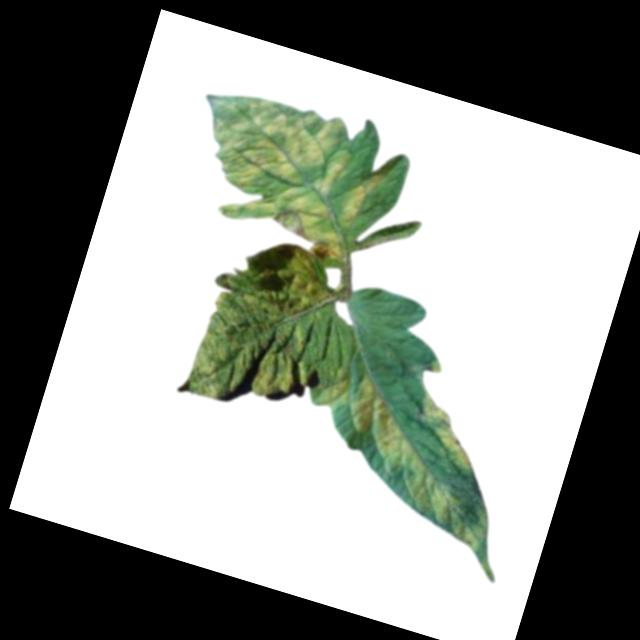Leaf_Mold: (284, 356, 524, 553), (172, 77, 407, 263), (175, 222, 343, 427), (406, 390, 487, 471)
